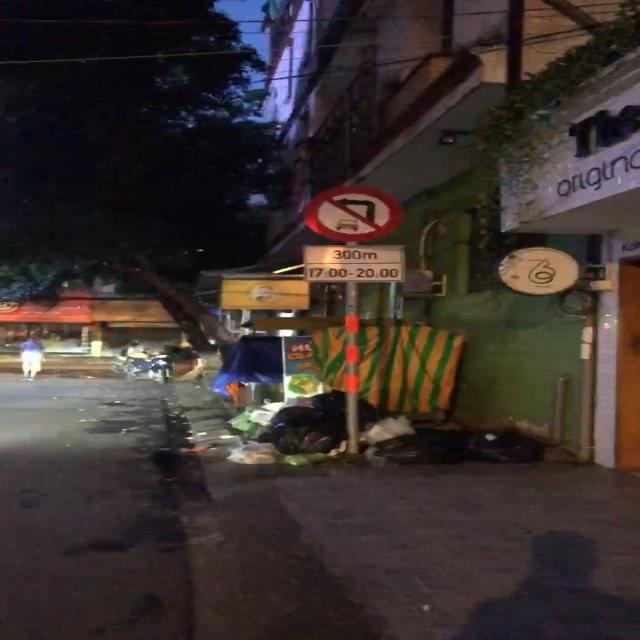Bien bao cam xe o to re trai: (298, 186, 405, 248)
